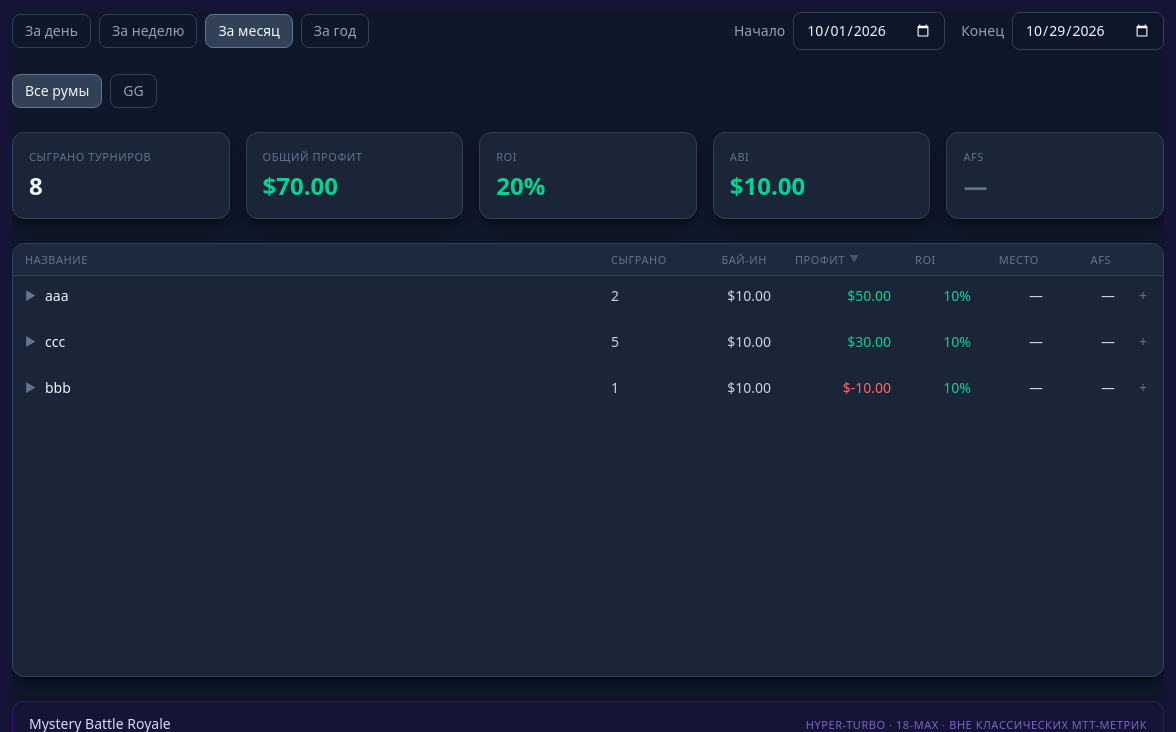
Test: TournamentsPage: virtualized groups list › reveals the virtualized detail rows when a group is expanded
Expected: the text "2026-09-30" is not shown
Click the text "bbb": (58, 388) [45, 378, 71, 398]
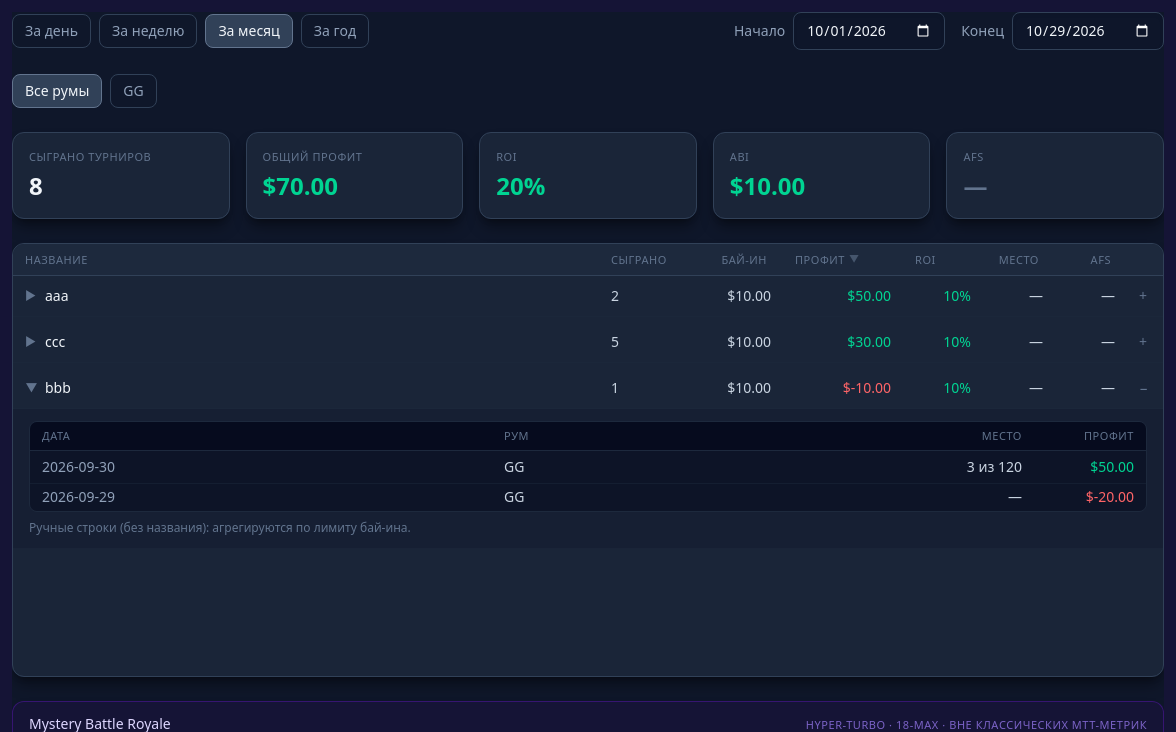
Now the text "2026-09-30" is shown, box [42, 457, 115, 476]
Now the text "2026-09-29" is shown, box [42, 487, 115, 506]
Now the text "Ручные строки (без названия): агрегируются по лимиту бай-ина." is shown, box [29, 519, 411, 536]
